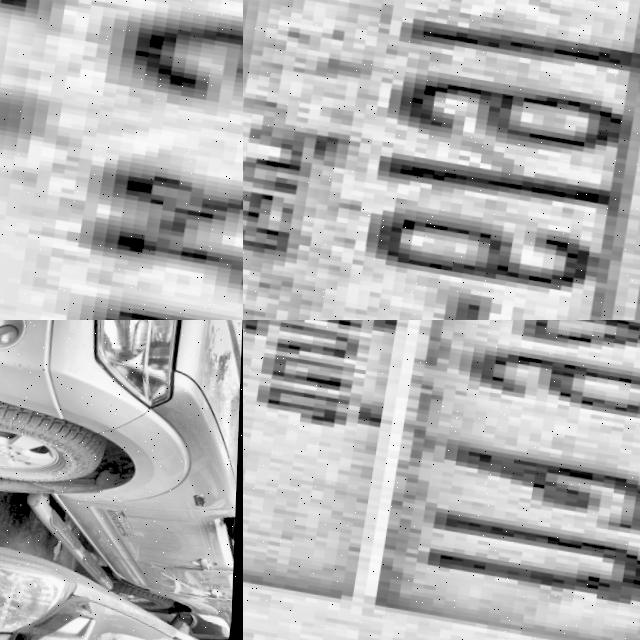license-plate: (243, 0, 640, 320), (243, 320, 640, 640), (0, 0, 243, 320)
